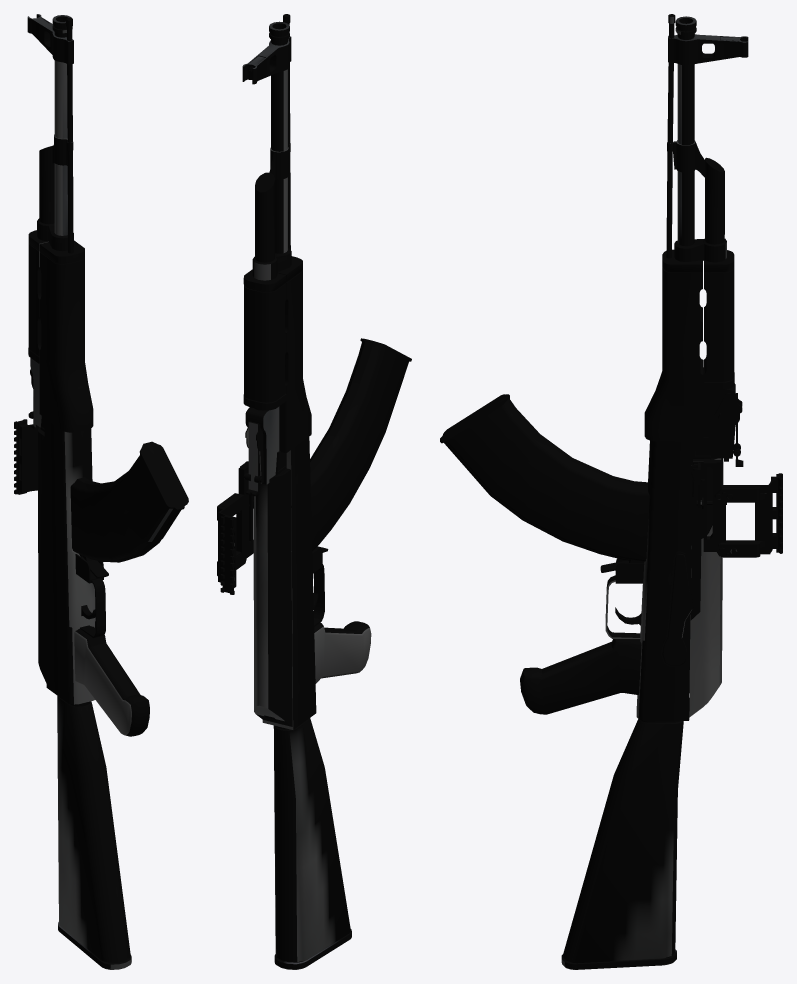
File: AK47__Mount_AK_SideRail.fbx
The picture shows the model from 3 angles, left to right: view 1: azimuth 30°, elevation 25°; view 2: azimuth 150°, elevation 25°; view 3: azimuth 270°, elevation 25°; orthographic projection. The views are drawn at different scales.
Visible parts, largest first — view 1: asset_AK47.001; view 2: asset_AK47.001; view 3: asset_AK47.001.
Part boxes in pixels (<box>): asset_AK47.001: <box>14,14,188,969</box>; asset_AK47.001: <box>217,14,411,969</box>; asset_AK47.001: <box>440,14,782,969</box>.
Bounding box in the file's own units: 0.0254 × 0.528 × 0.173.
